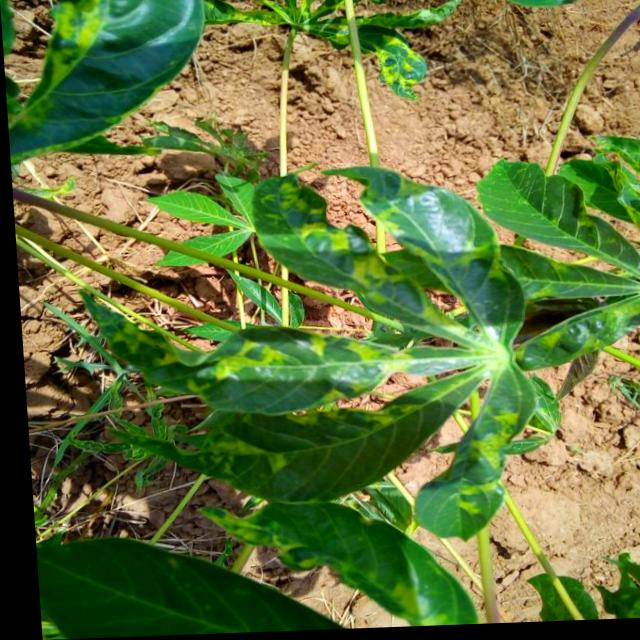Mosaico: (199, 145, 583, 508)
